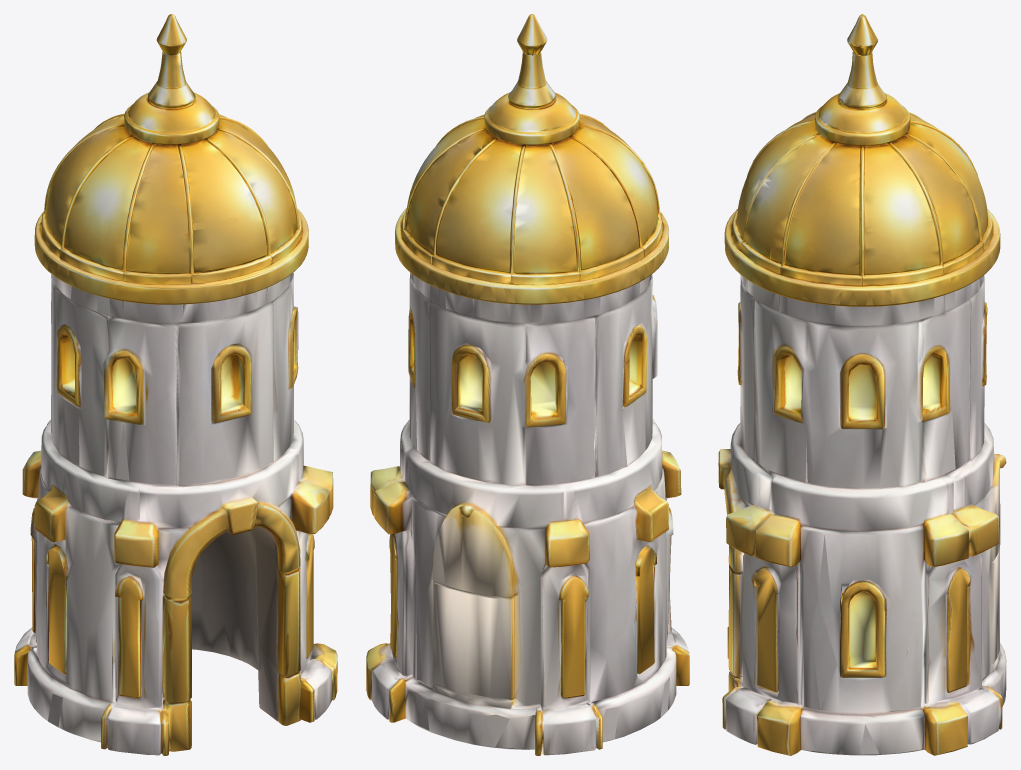
File: Halo_TowerB_Assembled.glb
3 renders of one model, left to right at view 1: azimuth 30°, elevation 25°; view 2: azimuth 150°, elevation 25°; view 3: azimuth 270°, elevation 25°, orthographic.
Visible parts, largest first — view 1: Tower_TowerBody, Tower_GateDomeL; view 2: Tower_TowerBody, Tower_GateDomeL; view 3: Tower_TowerBody, Tower_GateDomeL.
Part boxes in pixels (x1,y1,x2,y2): Tower_TowerBody: [14, 272, 337, 755]; Tower_GateDomeL: [34, 14, 308, 304]; Tower_TowerBody: [366, 272, 689, 755]; Tower_GateDomeL: [395, 14, 668, 304]; Tower_TowerBody: [718, 275, 1006, 755]; Tower_GateDomeL: [724, 14, 1000, 306].
Size of the model in its own units: 10.05 by 25.19 by 9.68.
Materials: 2 (2 with a texture image).
